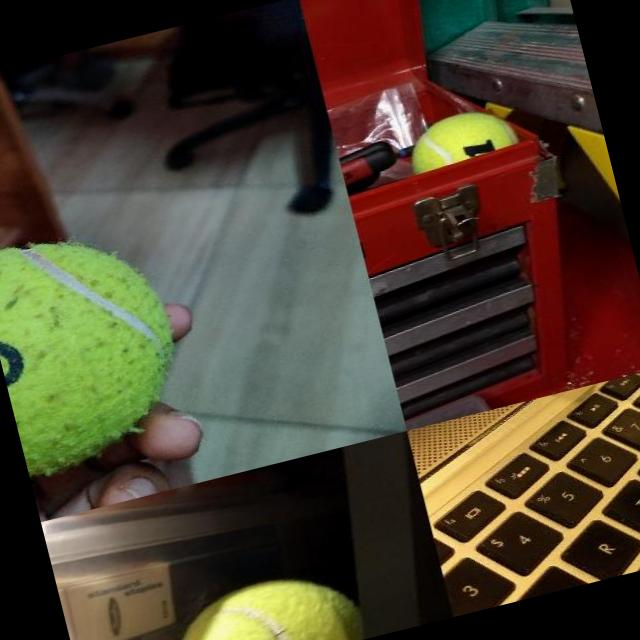tennis-ball: (0, 209, 199, 481), (155, 560, 359, 640), (402, 100, 518, 166)
